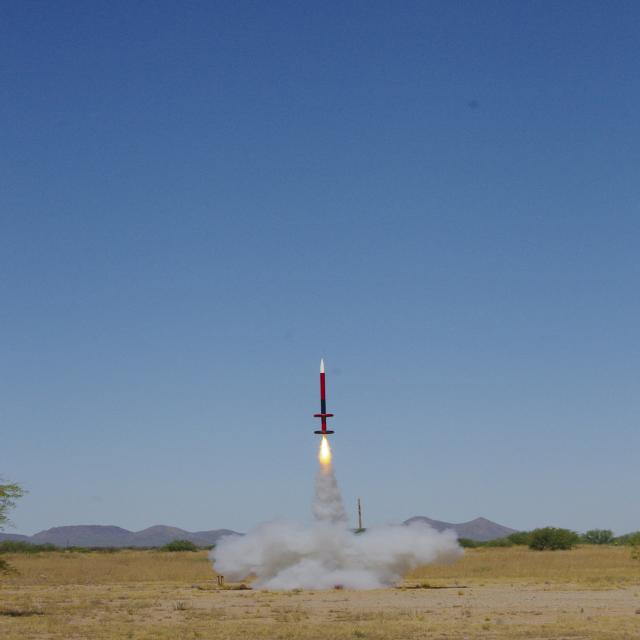Rocket: (314, 358, 334, 435)
